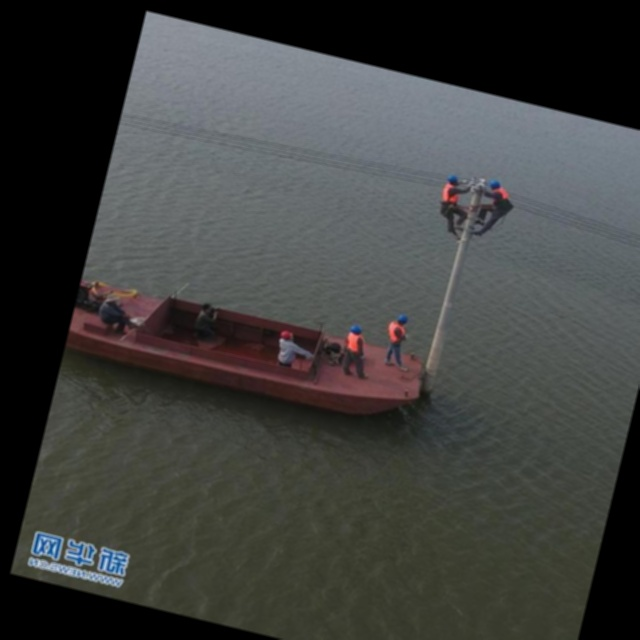Con_Casco: (486, 178, 501, 192), (349, 323, 364, 336), (446, 173, 461, 186), (280, 330, 296, 342), (396, 312, 409, 326)
Sin_Casco_Mascarrilla: (104, 292, 121, 307)
